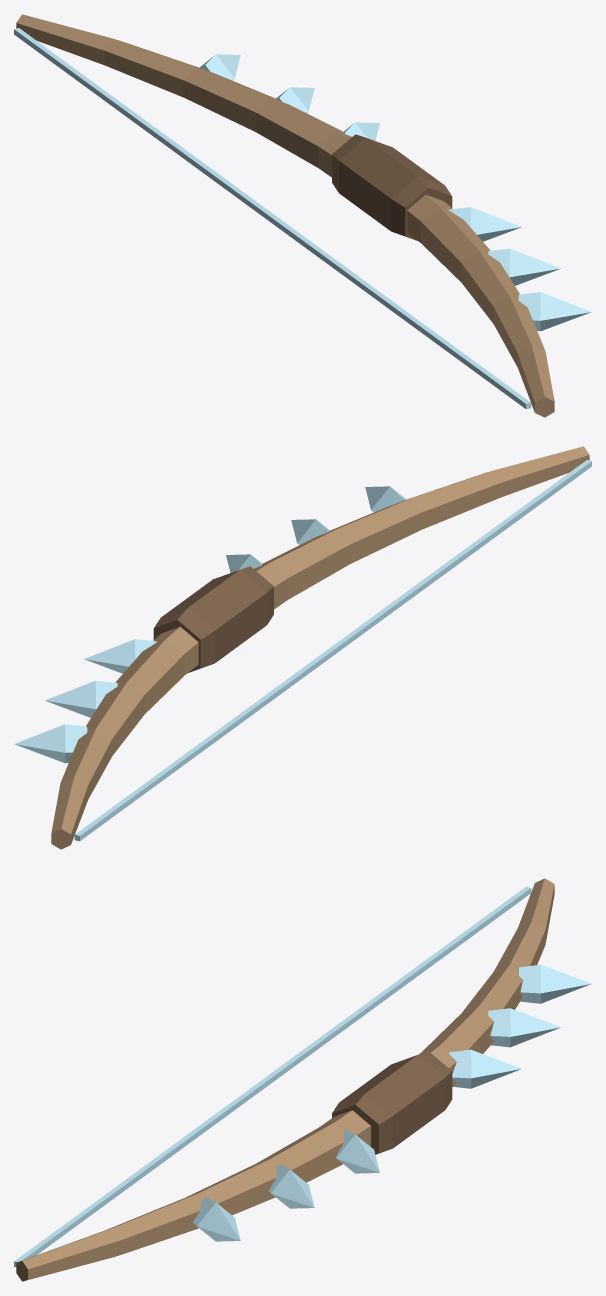
The model's file is hoarstring.glb.
The picture shows the model from 3 angles, top to bottom: view 1: azimuth 30°, elevation 25°; view 2: azimuth 150°, elevation 25°; view 3: azimuth 330°, elevation 25°; orthographic projection.
Parts seen in each view (by area): view 1: hoarstring; view 2: hoarstring; view 3: hoarstring.
Boxes of the visible parts, bbox=[...] form: hoarstring: bbox=[14, 14, 591, 417]; hoarstring: bbox=[14, 446, 591, 849]; hoarstring: bbox=[14, 878, 591, 1281].
Bounding box in the file's own units: 0.2001 × 0.069 × 1.01.
